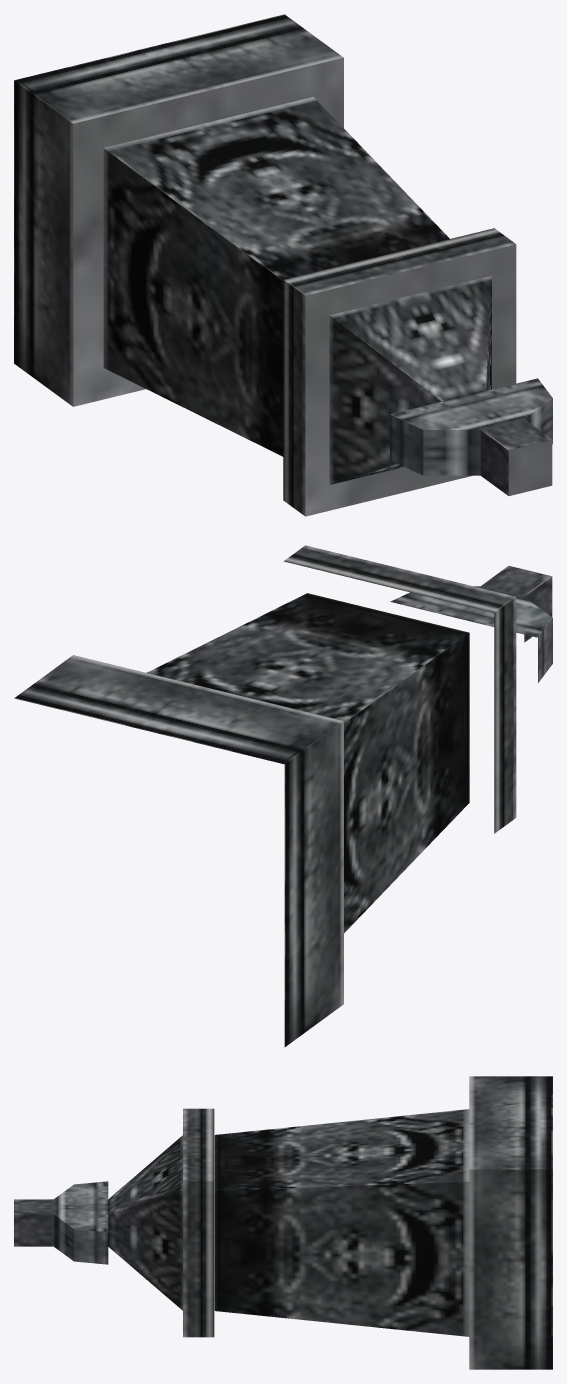
The model's file is SteelStatue01.glb.
3 renders of one model, top to bottom at view 1: azimuth 30°, elevation 25°; view 2: azimuth 150°, elevation 25°; view 3: azimuth 270°, elevation 25°, orthographic. The views are drawn at different scales.
Parts seen in each view (by area): view 1: model_SteelStatue01; view 2: model_SteelStatue01; view 3: model_SteelStatue01.
Part boxes in pixels (x1,y1,x2,y2): model_SteelStatue01: (14,14,552,516); model_SteelStatue01: (14,545,552,1047); model_SteelStatue01: (14,1076,552,1369).
Size of the model in its own units: 1.32 by 1.32 by 3.22.
1 material, 1 textured.
